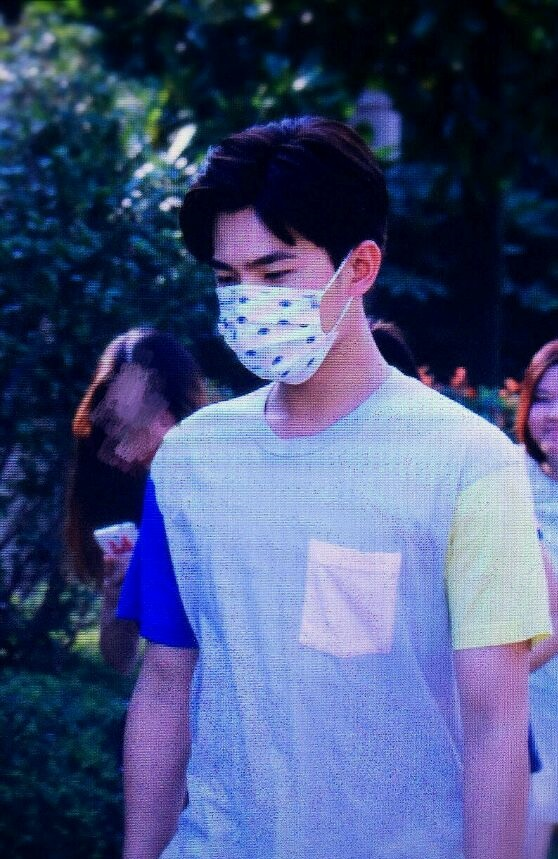face: (524, 374, 558, 457)
face_mask: (215, 201, 320, 385)
